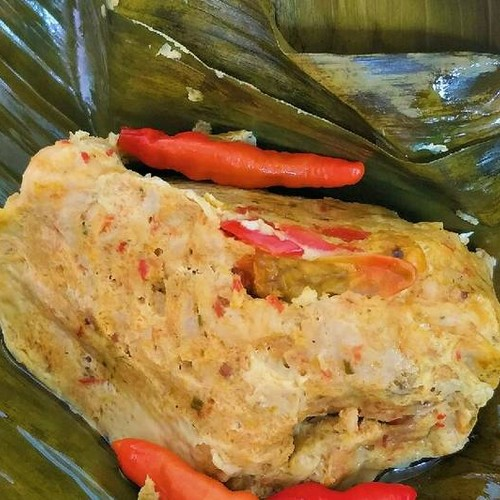tum ayam: (7, 139, 500, 463)
